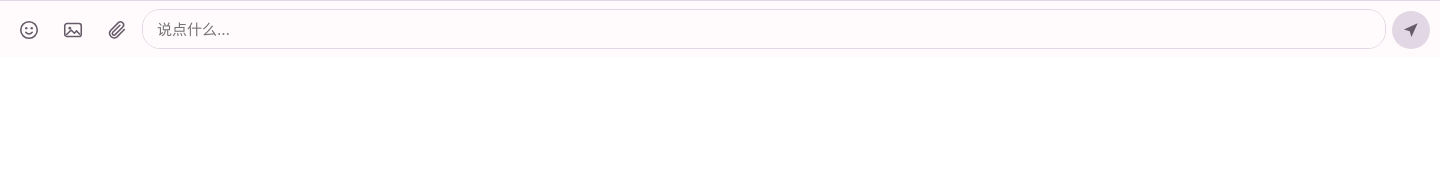
Scenario: Composer 表情面板 › 没有可用表情时面板给出空态提示
Click the button with test id "btn-sticker" at (29, 30), box [10, 11, 48, 49]
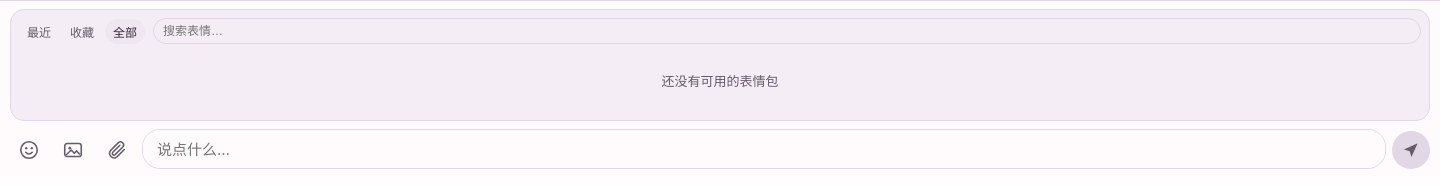
Now the element with test id "sticker-panel" is shown, box [10, 9, 1430, 120]
Now the element with test id "sticker-panel" shows "还没有可用的表情包", box [662, 73, 778, 89]
